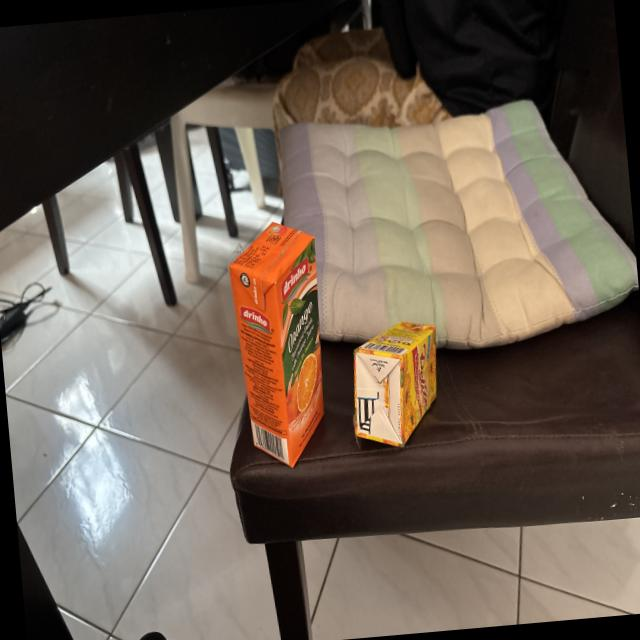drink_carton: (220, 209, 340, 477), (332, 308, 452, 458)
